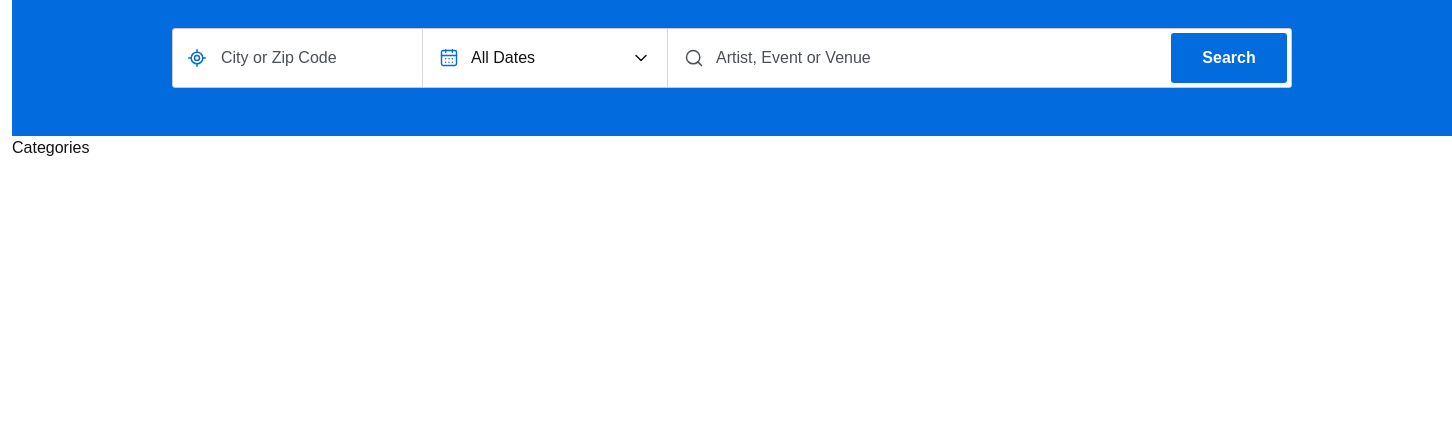
DiscoverKeywordSearch › renders empty and generic error responses without leaking codes
Type "Nobody" into the search field named "Search" at (936, 58), box [704, 29, 1167, 87]
Then press Enter
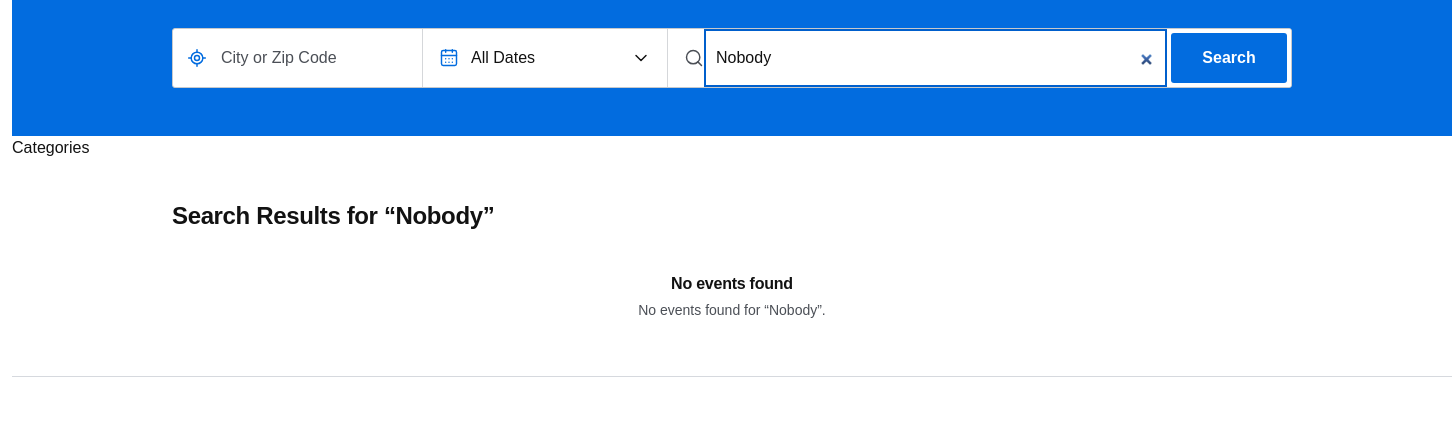
Check: the heading "No events found" is shown, box [671, 275, 793, 292]
Replace the text in the search field named "Search" with "Failure" at (936, 58), box [704, 29, 1167, 87]
Then press Enter
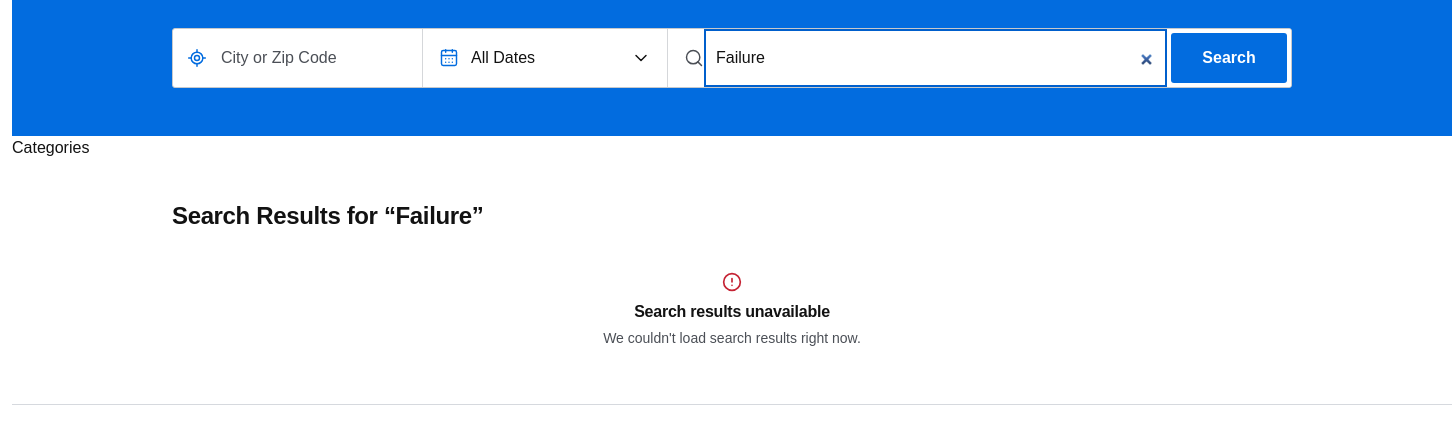
Check: the heading "Search results unavailable" is shown, box [634, 303, 830, 320]
